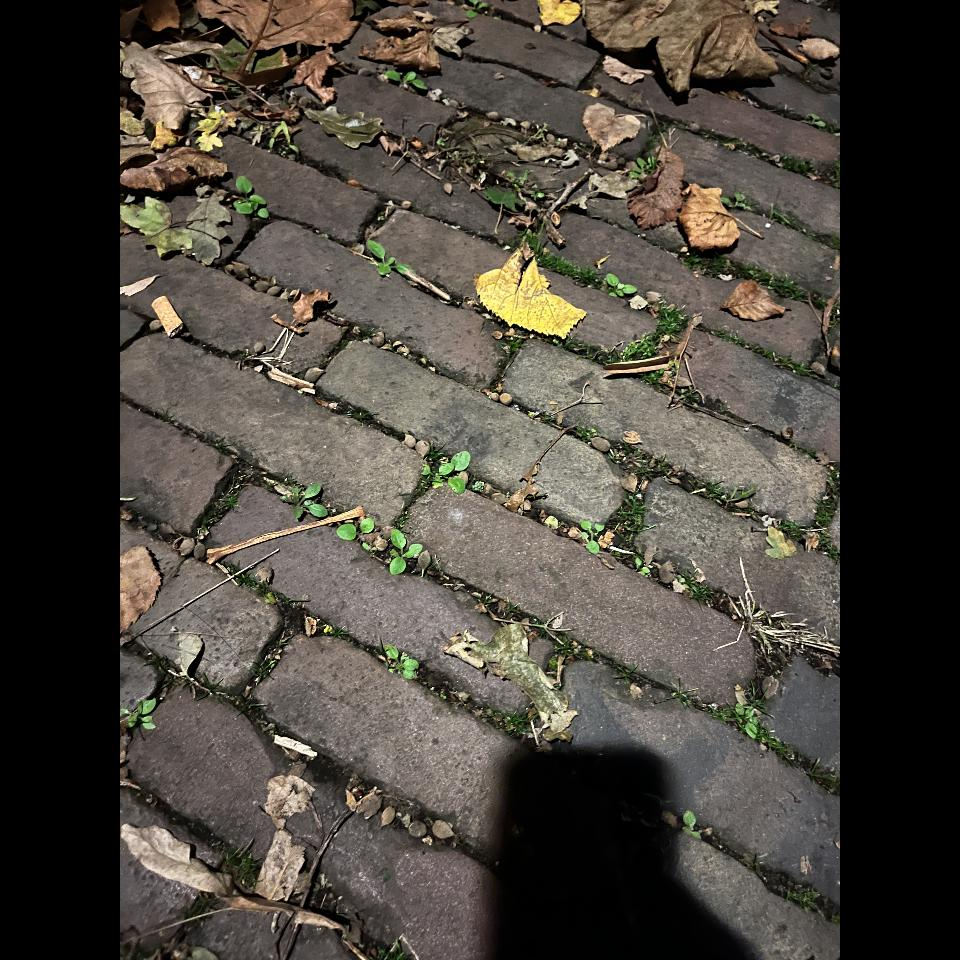weed: (700, 327, 840, 391), (565, 304, 688, 361), (610, 444, 669, 546), (266, 479, 347, 525), (536, 249, 600, 289), (745, 613, 810, 649), (234, 176, 269, 219), (424, 457, 459, 493), (381, 529, 423, 558), (384, 645, 419, 679), (629, 310, 654, 320), (810, 635, 819, 647)
